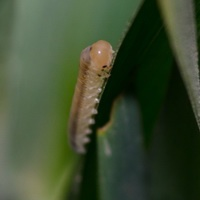insect: (69, 40, 114, 153)
